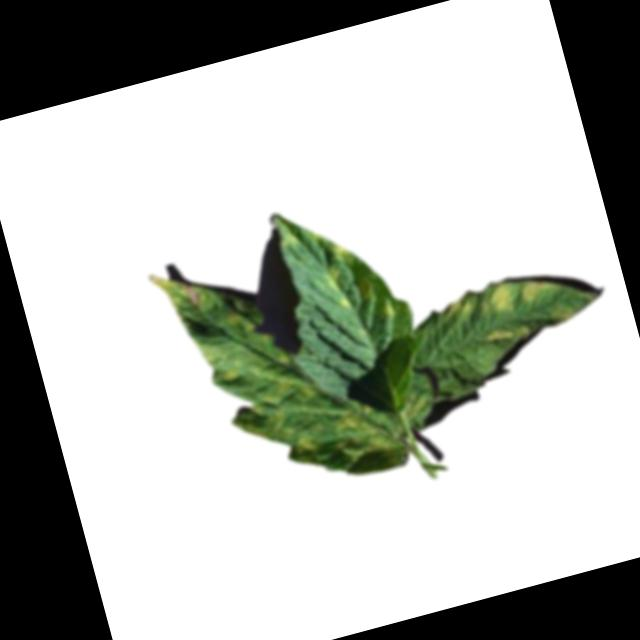Leaf_Mold: (141, 228, 394, 501), (440, 268, 554, 329), (319, 235, 381, 313), (482, 301, 580, 349)
